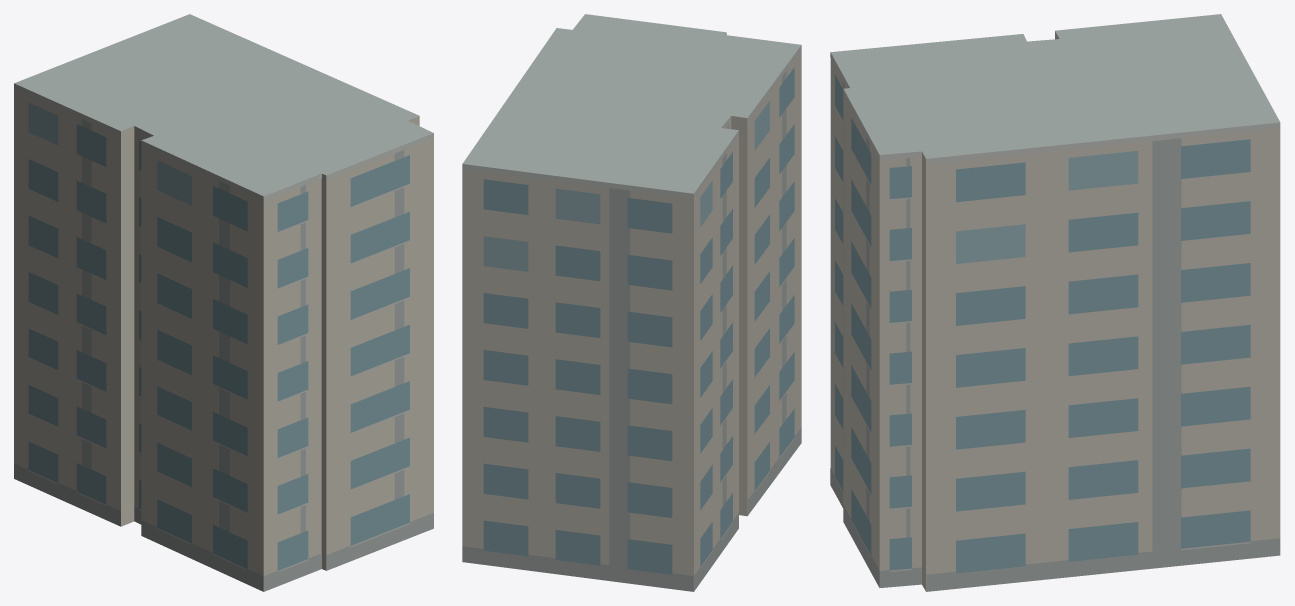
Rendered from survey-upis-32598023.glb.
The picture shows the model from 3 angles, left to right: view 1: azimuth 30°, elevation 25°; view 2: azimuth 150°, elevation 25°; view 3: azimuth 270°, elevation 25°; orthographic projection. The views are drawn at different scales.
Visible parts, largest first — view 1: survey-upis-32598023.tmp; view 2: survey-upis-32598023.tmp; view 3: survey-upis-32598023.tmp.
Part boxes in pixels (left/top/right/bottom): survey-upis-32598023.tmp: left=14, top=14, right=433, bottom=591; survey-upis-32598023.tmp: left=462, top=14, right=801, bottom=591; survey-upis-32598023.tmp: left=830, top=14, right=1280, bottom=591.
Size of the model in its own units: 13.56 by 18.9 by 17.81.
